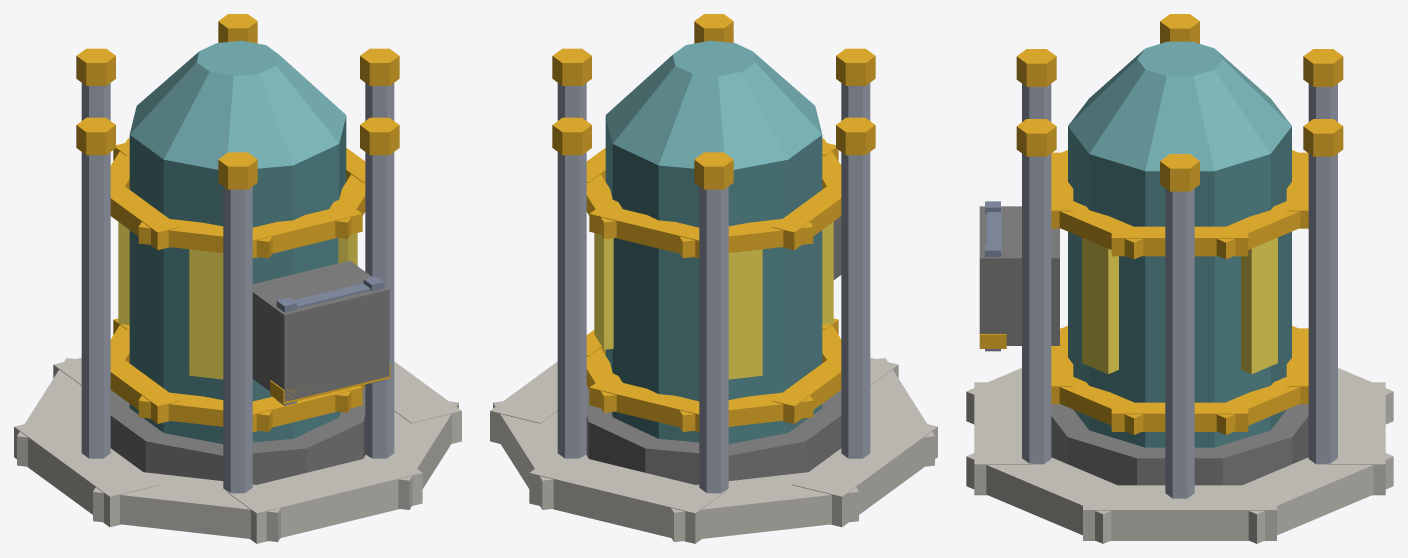
The model's file is reactor.glb.
3 renders of one model, left to right at view 1: azimuth 30°, elevation 25°; view 2: azimuth 150°, elevation 25°; view 3: azimuth 270°, elevation 25°, orthographic.
Visible parts, largest first — view 1: reactor; view 2: reactor; view 3: reactor.
Part boxes in pixels (bbox=[...]): reactor: bbox=[14, 14, 461, 543]; reactor: bbox=[490, 14, 937, 543]; reactor: bbox=[966, 14, 1393, 543].
Bounding box in the file's own units: 1.5 × 1.53 × 1.5.
